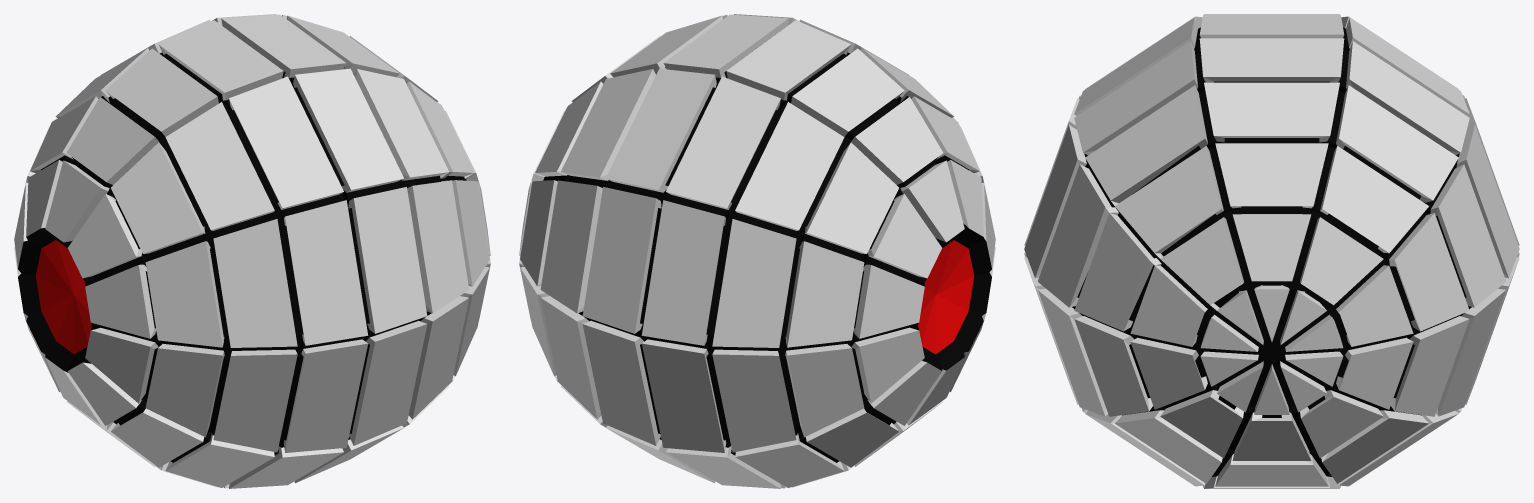
The model's file is drone_white.glb.
3 renders of one model, left to right at view 1: azimuth 30°, elevation 25°; view 2: azimuth 150°, elevation 25°; view 3: azimuth 270°, elevation 25°, orthographic. The views are drawn at different scales.
Parts seen in each view (by area): view 1: 球; view 2: 球; view 3: 球.
Part boxes in pixels (bbox=[...]): 球: bbox=[14, 14, 490, 488]; 球: bbox=[519, 14, 995, 488]; 球: bbox=[1024, 14, 1519, 488].
Size of the model in its own units: 1.94 by 1.9 by 1.98.
